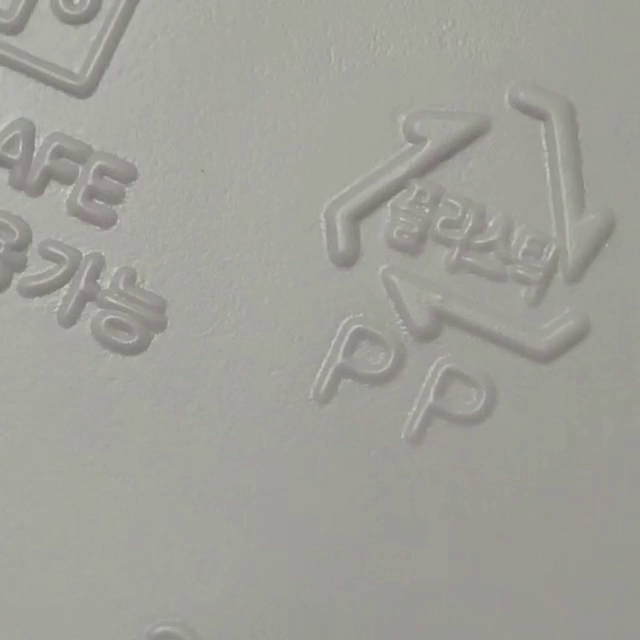Plastic: (323, 87, 613, 364)
